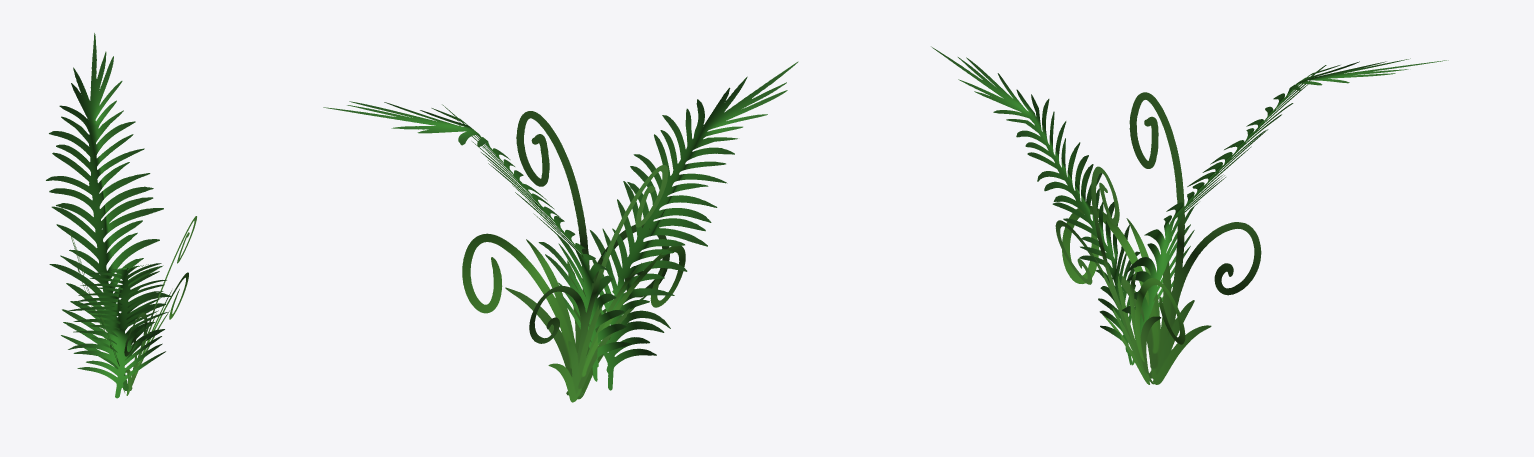
The model's file is plant5.fbx.
3 renders of one model, left to right at view 1: azimuth 30°, elevation 25°; view 2: azimuth 150°, elevation 25°; view 3: azimuth 270°, elevation 25°, orthographic. The views are drawn at different scales.
Parts seen in each view (by area): view 1: pPlane47; view 2: pPlane47; view 3: pPlane47.
Part boxes in pixels (left/top/right/bottom): pPlane47: left=46, top=33, right=196, bottom=398; pPlane47: left=323, top=61, right=798, bottom=402; pPlane47: left=931, top=46, right=1448, bottom=384.
Size of the model in its own units: 0.3756 by 0.4162 by 0.5907.
